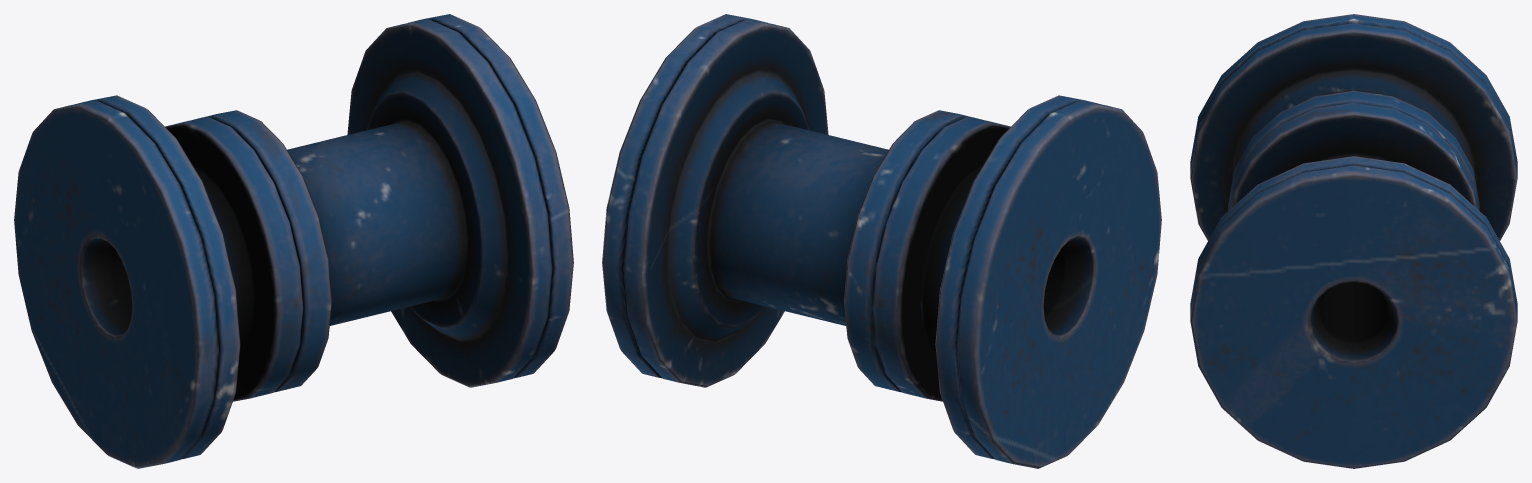
File: SM_Pipe01_Connect.fbx
3 views of the same model, side by side, from view 1: azimuth 30°, elevation 25°; view 2: azimuth 150°, elevation 25°; view 3: azimuth 270°, elevation 25° (orthographic). The views are drawn at different scales.
Visible parts, largest first — view 1: SM_Pipe01_Connect_LOD0; view 2: SM_Pipe01_Connect_LOD0; view 3: SM_Pipe01_Connect_LOD0.
Part boxes in pixels (left/top/right/bottom): SM_Pipe01_Connect_LOD0: left=14, top=14, right=573, bottom=468; SM_Pipe01_Connect_LOD0: left=602, top=14, right=1161, bottom=468; SM_Pipe01_Connect_LOD0: left=1190, top=14, right=1517, bottom=468.
Bounding box in the file's own units: 30.12 × 25.94 × 25.94.
Materials: 1 (1 with a texture image).
